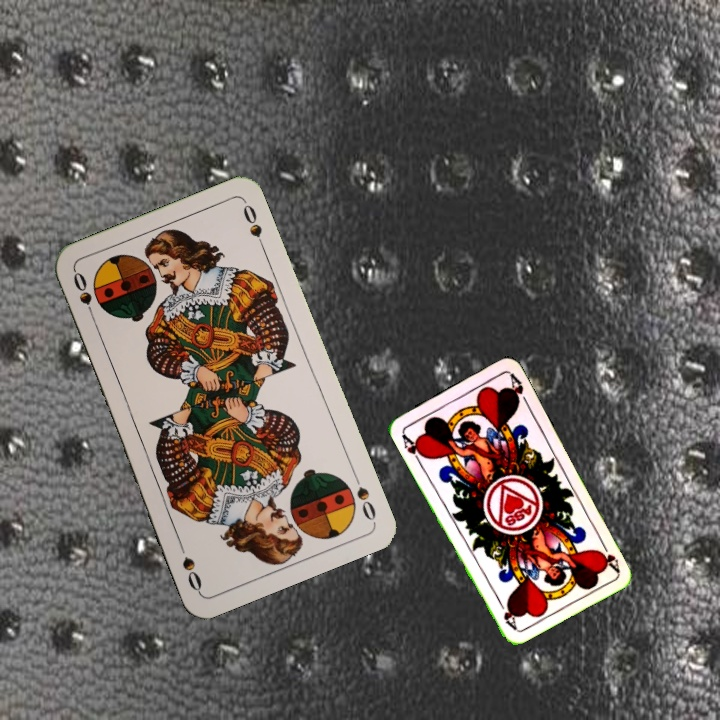HA: (398, 429, 428, 466), (594, 536, 622, 574)
SO: (69, 267, 99, 325), (348, 468, 379, 524)
